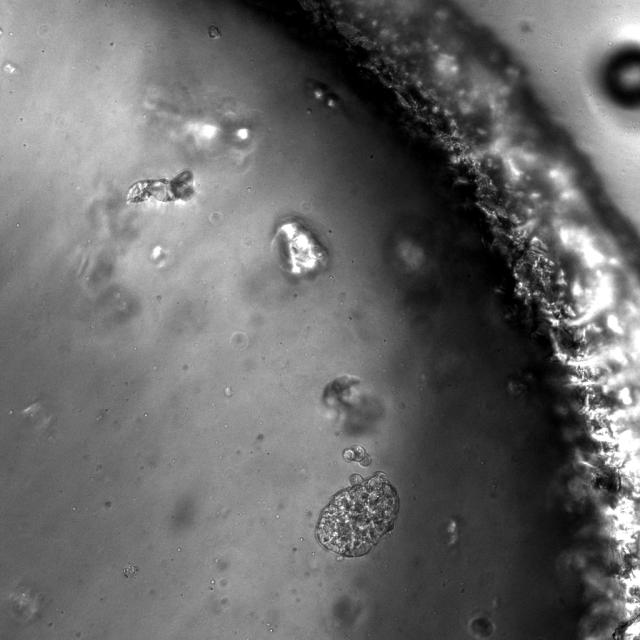organoid: (316, 472, 399, 557), (275, 219, 328, 281), (342, 445, 372, 467), (469, 618, 494, 637)
